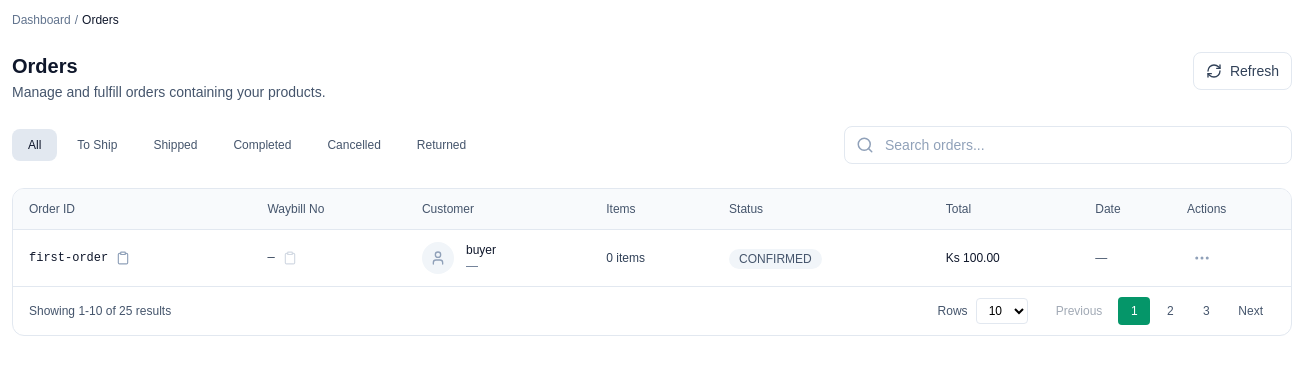
it: requests server pages and ignores responses superseded by a tab change
This screenshot has width=1304, height=381.
Expected: the text "Showing 1-10 of 25 results" is shown, x1=29 y1=303 x2=171 y2=319
Step 1. Click the button "Next" → [1251, 311], box x1=1226 y1=297 x2=1275 y2=325
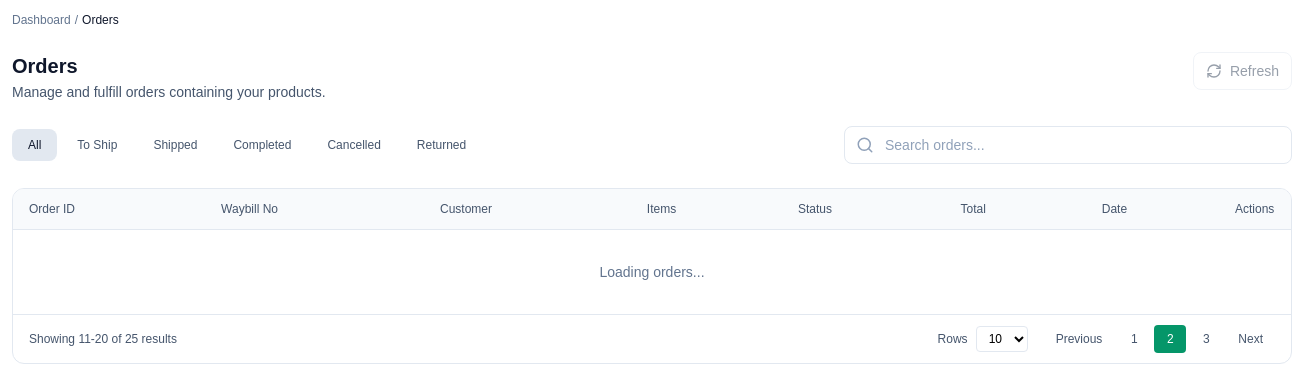
Step 2. Click the button "To Ship" → [97, 145], box x1=61 y1=129 x2=133 y2=161
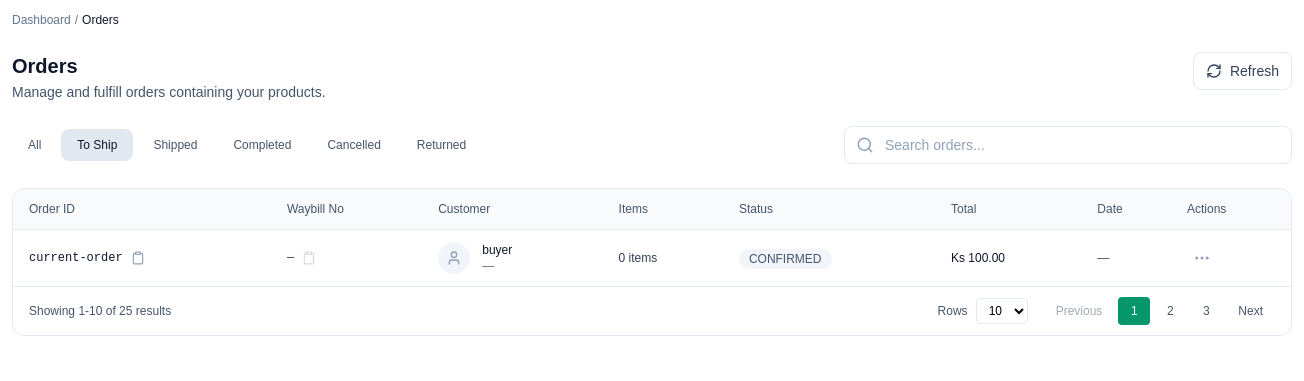
Expected: the text "current-order" is shown, x1=29 y1=250 x2=123 y2=266
